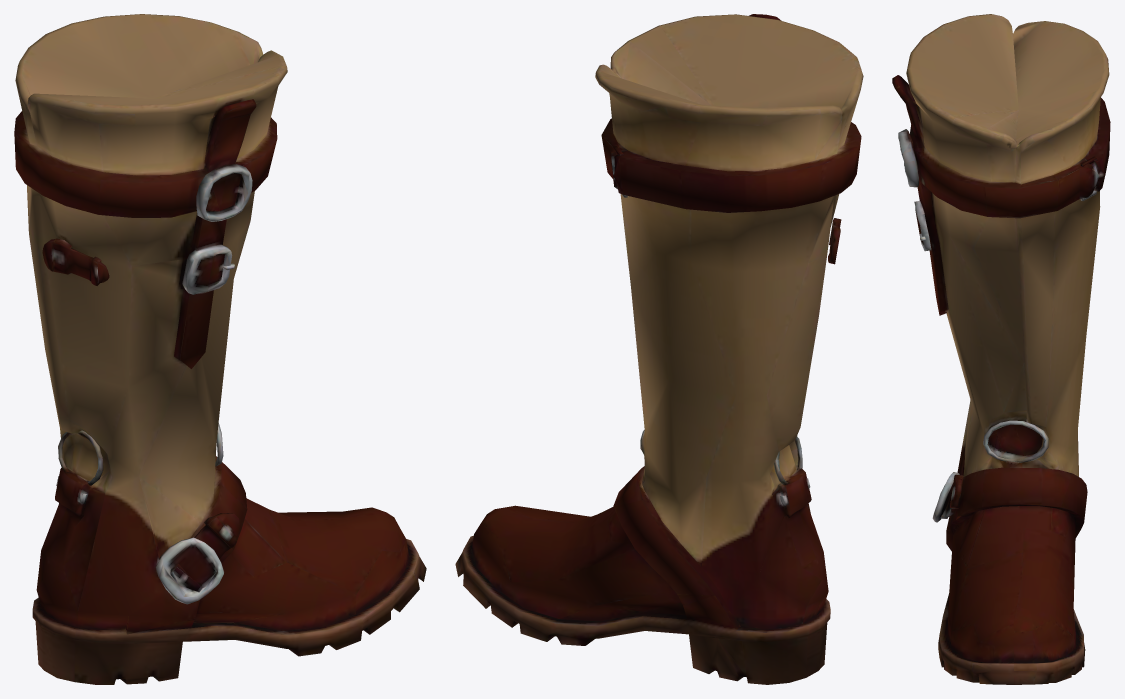
The model's file is default_boots_left.glb.
3 views of the same model, side by side, from view 1: azimuth 30°, elevation 25°; view 2: azimuth 150°, elevation 25°; view 3: azimuth 270°, elevation 25° (orthographic). The views are drawn at different scales.
Parts seen in each view (by area): view 1: tripo_node_3d9b223f-76b6-4295-b58d-a0f4f876c0a0; view 2: tripo_node_3d9b223f-76b6-4295-b58d-a0f4f876c0a0; view 3: tripo_node_3d9b223f-76b6-4295-b58d-a0f4f876c0a0.
Boxes of the visible parts, left/top/right/bottom form: tripo_node_3d9b223f-76b6-4295-b58d-a0f4f876c0a0: left=14, top=14, right=426, bottom=684; tripo_node_3d9b223f-76b6-4295-b58d-a0f4f876c0a0: left=455, top=14, right=863, bottom=684; tripo_node_3d9b223f-76b6-4295-b58d-a0f4f876c0a0: left=892, top=14, right=1110, bottom=684.
Bounding box in the file's own units: 0.6895 × 0.998 × 0.3711.
1 material, 1 textured.
